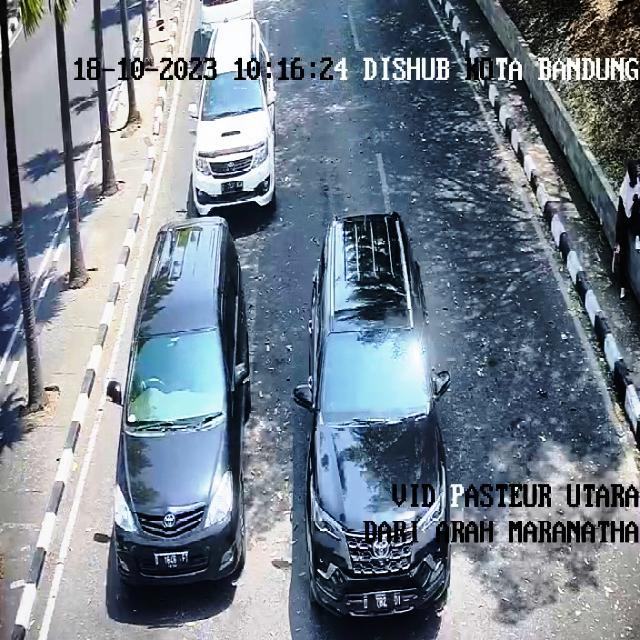car: (294, 214, 450, 617), (106, 218, 250, 586), (189, 19, 276, 214)
